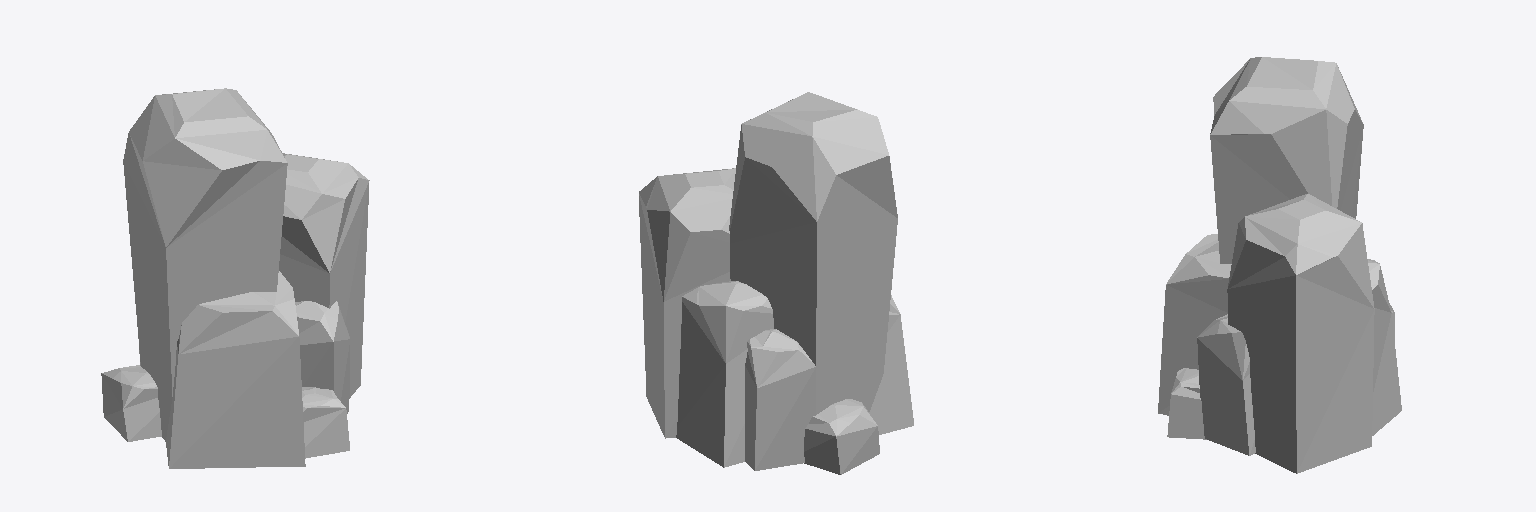
The model's file is Crystal1.obj.
3 renders of one model, left to right at view 1: azimuth 30°, elevation 25°; view 2: azimuth 150°, elevation 25°; view 3: azimuth 270°, elevation 25°, orthographic.
Visible parts, largest first — view 1: big_ore_3_Cube.044; view 2: big_ore_3_Cube.044; view 3: big_ore_3_Cube.044.
Boxes of the visible parts, x1=… form: big_ore_3_Cube.044: x1=101, y1=88, x2=369, y2=468; big_ore_3_Cube.044: x1=639, y1=92, x2=913, y2=474; big_ore_3_Cube.044: x1=1158, y1=57, x2=1401, y2=473.
Size of the model in its own units: 1.45 by 1.86 by 1.26.